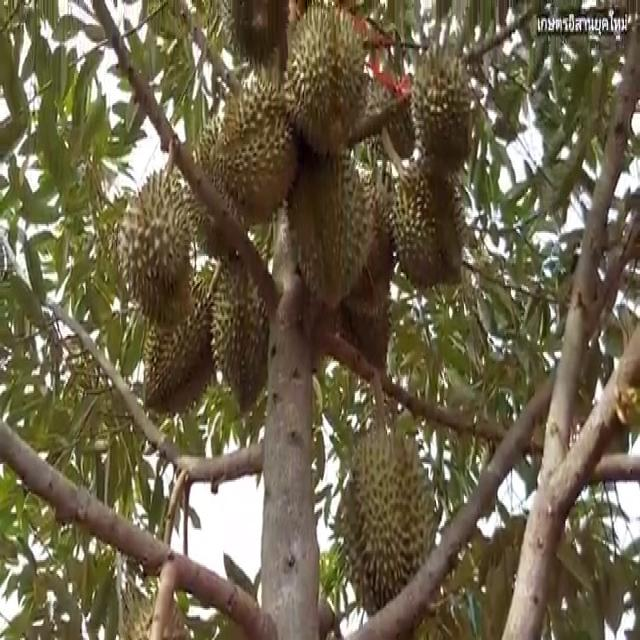durian: (332, 409, 446, 627), (187, 62, 304, 225), (278, 133, 381, 313), (280, 3, 376, 152), (134, 272, 225, 426), (205, 248, 283, 424), (108, 170, 198, 318), (378, 153, 473, 291), (398, 41, 478, 183)
